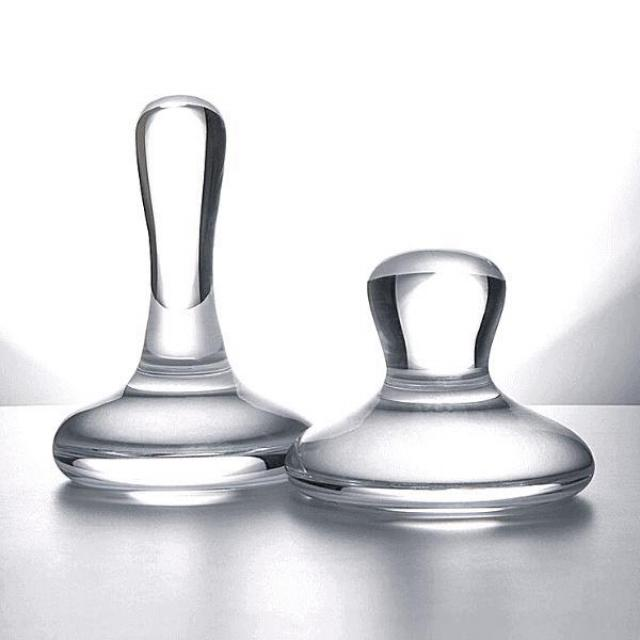non-organic waste: (280, 242, 600, 525)
